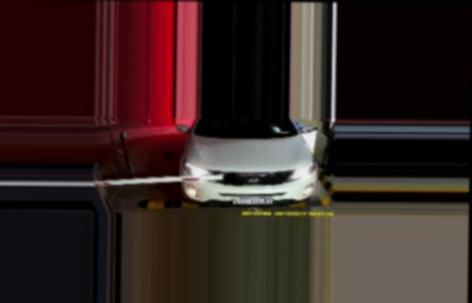License_Plate: (232, 193, 272, 208)
